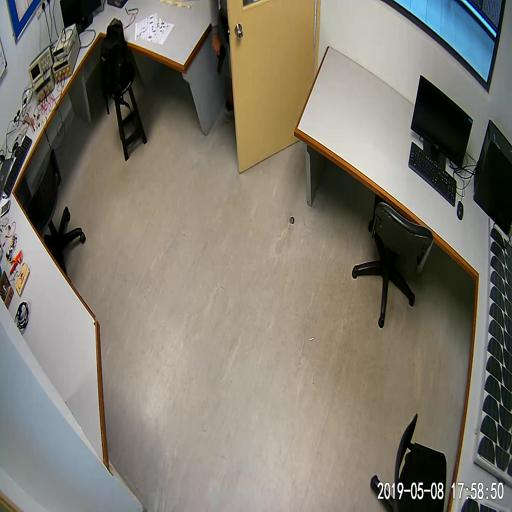pistol: (211, 38, 229, 76)
